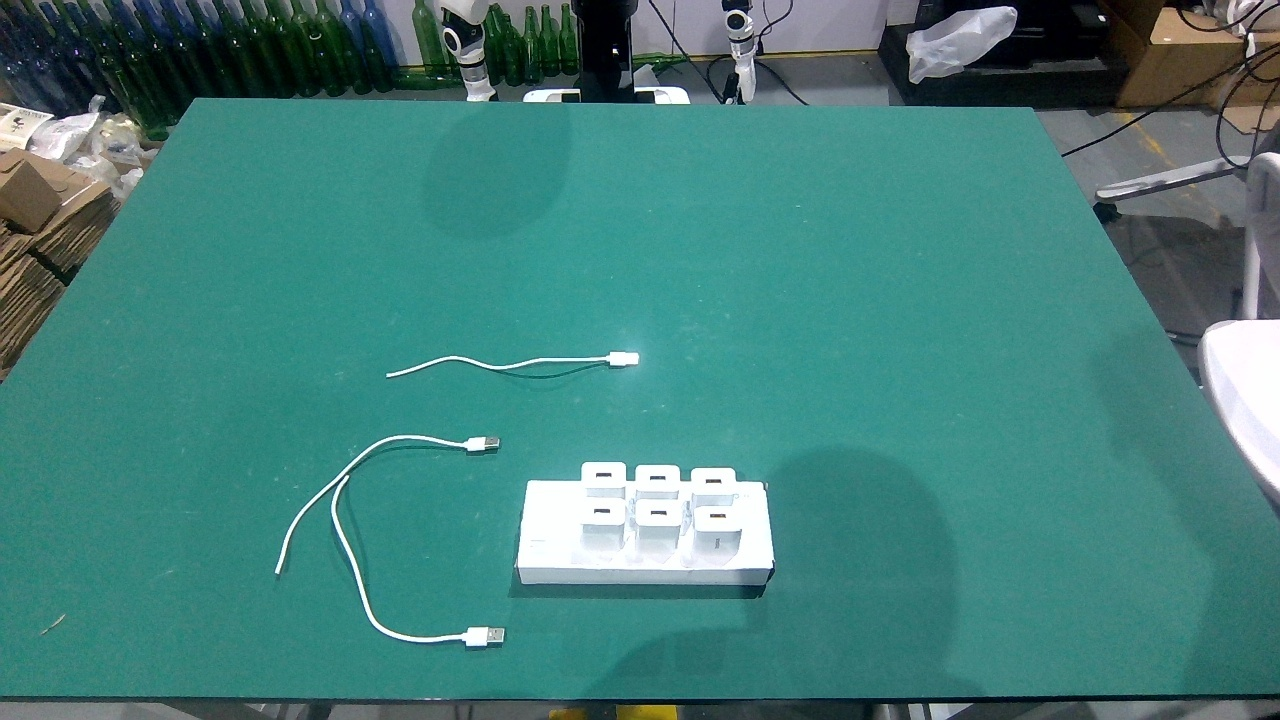usb_a_port: (649, 473, 667, 483), (704, 477, 724, 486), (649, 509, 668, 518), (595, 471, 613, 480), (709, 512, 729, 520), (592, 507, 611, 515)
